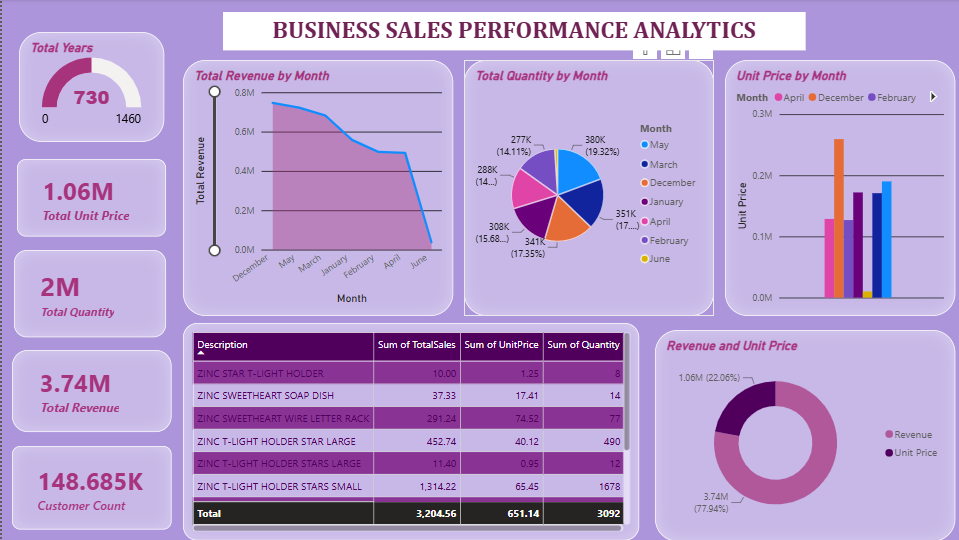

This screenshot's page, from the dashboard's own definition file:
{"tool":"powerbi","page":{"name":"Page 1","canvas":[1280,720],"ordinal":0},"visuals":[{"type":"lineChart","fields":{"Category":["cleaned_online_retail.Month"],"Y":["Sum(cleaned_online_retail.TotalSales)"]},"box":[240.9,81.2,359.2,340],"z":0},{"type":"tableEx","fields":{"Values":["cleaned_online_retail.Description","Sum(cleaned_online_retail.TotalSales)","Sum(cleaned_online_retail.UnitPrice)","Sum(cleaned_online_retail.Quantity)"]},"box":[240.9,430.8,605.6,289],"z":1000},{"type":"pieChart","fields":{"Category":["cleaned_online_retail.Month"],"Y":["Sum(cleaned_online_retail.Quantity)"]},"box":[613.8,81.2,331.7,340],"z":2000},{"type":"lineClusteredColumnComboChart","fields":{"Series":["cleaned_online_retail.Month"],"Y":["Sum(cleaned_online_retail.UnitPrice)"]},"box":[960.7,81.2,305.5,340],"z":3000},{"type":"donutChart","fields":{"Y":["Sum(cleaned_online_retail.TotalSales)","Sum(cleaned_online_retail.UnitPrice)"]},"box":[867.1,439.1,399.1,280.8],"z":4000},{"type":"cardVisual","fields":{"Data":["Sum(cleaned_online_retail.TotalSales)"]},"box":[13.8,466.6,212,108.7],"z":5000},{"type":"cardVisual","fields":{"Data":["Sum(cleaned_online_retail.Quantity)"]},"box":[16.5,333.1,202.3,115.6],"z":6000},{"type":"cardVisual","fields":{"Data":["CountNonNull(cleaned_online_retail.CustomerID)"]},"box":[13.8,593.2,212,111.5],"z":7000},{"type":"cardVisual","fields":{"Data":["Sum(cleaned_online_retail.UnitPrice)"]},"box":[19.3,212,198.2,103.2],"z":8000},{"type":"gauge","fields":{"Y":["CountNonNull(cleaned_online_retail.InvoiceDate.Variation.Date Hierarchy.Year)"]},"box":[22,44,192.7,145.9],"z":9000},{"type":"textbox","box":[293.2,17.9,773.5,50.9],"z":10000}]}

Visuals, with their boxes in screenshot pixels (x1, y1, x2, y2), scaled from the page's 1280x720 canvas onto the 959x540 screenshot:
lineChart - cleaned_online_retail.Month x Sum(cleaned_online_retail.TotalSales): [180, 61, 450, 316]
tableEx - cleaned_online_retail.Description x Sum(cleaned_online_retail.TotalSales): [180, 323, 634, 539]
pieChart - cleaned_online_retail.Month x Sum(cleaned_online_retail.Quantity): [460, 61, 708, 316]
lineClusteredColumnComboChart - cleaned_online_retail.Month x Sum(cleaned_online_retail.UnitPrice): [720, 61, 949, 316]
donutChart - Sum(cleaned_online_retail.TotalSales) x Sum(cleaned_online_retail.UnitPrice): [650, 329, 949, 539]
cardVisual - Sum(cleaned_online_retail.TotalSales): [10, 350, 169, 431]
cardVisual - Sum(cleaned_online_retail.Quantity): [12, 250, 164, 337]
cardVisual - CountNonNull(cleaned_online_retail.CustomerID): [10, 445, 169, 529]
cardVisual - Sum(cleaned_online_retail.UnitPrice): [14, 159, 163, 236]
gauge - CountNonNull(cleaned_online_retail.InvoiceDate.Variation.Date Hierarchy.Year): [16, 33, 161, 142]
textbox: [220, 13, 799, 52]
